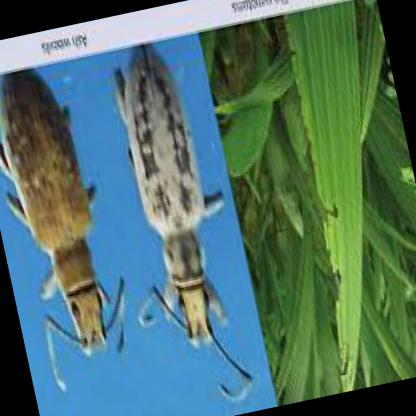ash weevil: (116, 46, 224, 353), (0, 68, 106, 358)
